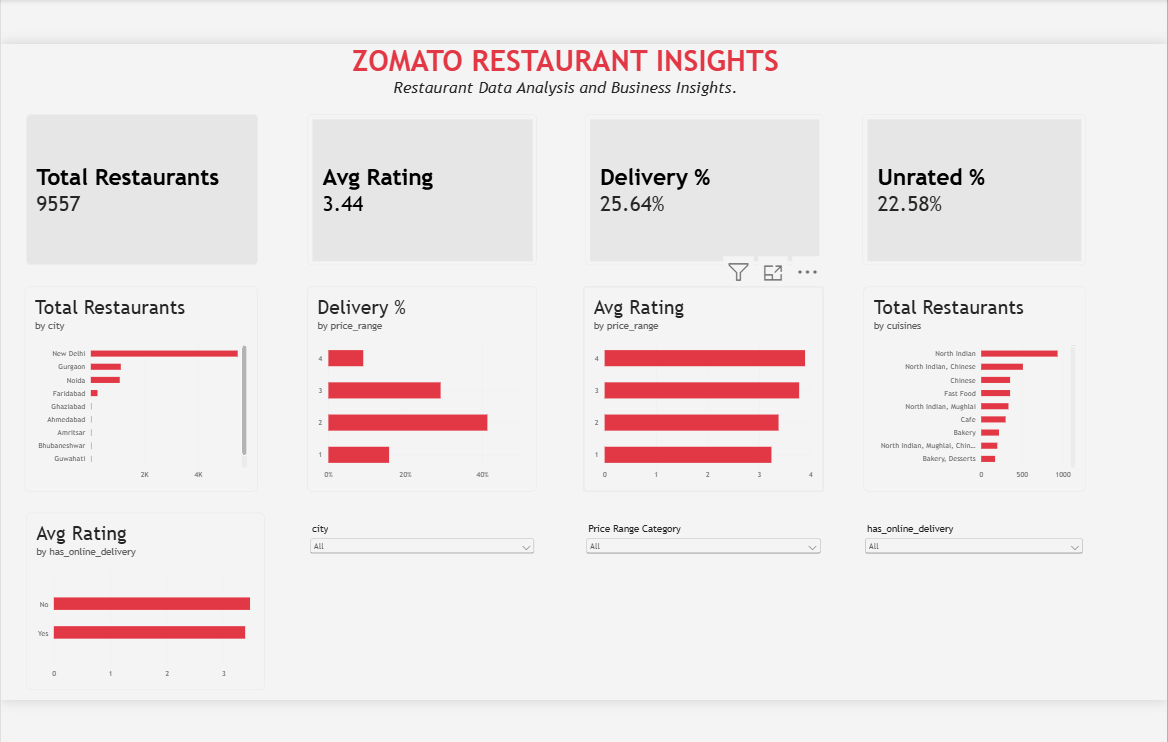

The dashboard page shown, as its layout file describes it:
{"tool":"powerbi","page":{"name":"Page 1","canvas":[1920,1080],"ordinal":0},"visuals":[{"type":"cardVisual","fields":{"Data":["zomato_clean.Total Restaurants"]},"box":[41.2,115.3,382.8,249.1],"z":0},{"type":"cardVisual","fields":{"Data":["zomato_clean.Avg Rating"]},"box":[504.3,115.3,378.7,249.1],"z":1},{"type":"cardVisual","fields":{"Data":["zomato_clean.Delivery %"]},"box":[961.2,115.3,393.1,249.1],"z":2},{"type":"cardVisual","fields":{"Data":["zomato_clean.Unrated %"]},"box":[1418.2,115.3,368.4,249.1],"z":3},{"type":"clusteredBarChart","fields":{"Category":["zomato_clean.city"],"Y":["zomato_clean.Total Restaurants"]},"box":[39.1,399.3,382.8,337.6],"z":4},{"type":"clusteredBarChart","fields":{"Category":["zomato_clean.price_range"],"Y":["zomato_clean.Delivery %"]},"box":[504.3,399.3,378.7,337.6],"z":5},{"type":"clusteredBarChart","fields":{"Category":["zomato_clean.price_range"],"Y":["zomato_clean.Avg Rating"]},"box":[959.2,399.3,395.2,337.6],"z":6},{"type":"clusteredBarChart","fields":{"Category":["zomato_clean.cuisines"],"Y":["zomato_clean.Total Restaurants"]},"box":[1420.2,399.3,366.4,337.6],"z":7},{"type":"clusteredBarChart","fields":{"Category":["zomato_clean.has_online_delivery"],"Y":["zomato_clean.Avg Rating"]},"box":[41.2,771.9,393.1,292.3],"z":8},{"type":"slicer","fields":{"Values":["zomato_clean.city"]},"box":[504.3,788.3,378.7,257.3],"z":9},{"type":"slicer","fields":{"Values":["zomato_clean.has_online_delivery"]},"box":[1418.2,788.3,368.4,257.3],"z":11},{"type":"slicer","fields":{"Values":["zomato_clean.Price Range Category"]},"box":[959.2,788.3,395.2,257.3],"z":12},{"type":"textbox","box":[1764,115.3,156.4,125.6],"z":13},{"type":"textbox","box":[90.6,24.7,1673.4,90.6],"z":14}]}

Visuals, with their boxes on the page's 1920x1080 design canvas (x1, y1, x2, y2). These are canvas units, not pixel positions in the 1168x742 screenshot, which may show the page scaled, cropped or inside an application window:
cardVisual - zomato_clean.Total Restaurants: bbox=[41, 115, 424, 364]
cardVisual - zomato_clean.Avg Rating: bbox=[504, 115, 883, 364]
cardVisual - zomato_clean.Delivery %: bbox=[961, 115, 1354, 364]
cardVisual - zomato_clean.Unrated %: bbox=[1418, 115, 1787, 364]
clusteredBarChart - zomato_clean.city x zomato_clean.Total Restaurants: bbox=[39, 399, 422, 737]
clusteredBarChart - zomato_clean.price_range x zomato_clean.Delivery %: bbox=[504, 399, 883, 737]
clusteredBarChart - zomato_clean.price_range x zomato_clean.Avg Rating: bbox=[959, 399, 1354, 737]
clusteredBarChart - zomato_clean.cuisines x zomato_clean.Total Restaurants: bbox=[1420, 399, 1787, 737]
clusteredBarChart - zomato_clean.has_online_delivery x zomato_clean.Avg Rating: bbox=[41, 772, 434, 1064]
slicer - zomato_clean.city: bbox=[504, 788, 883, 1046]
slicer - zomato_clean.has_online_delivery: bbox=[1418, 788, 1787, 1046]
slicer - zomato_clean.Price Range Category: bbox=[959, 788, 1354, 1046]
textbox: bbox=[1764, 115, 1920, 241]
textbox: bbox=[91, 25, 1764, 115]
